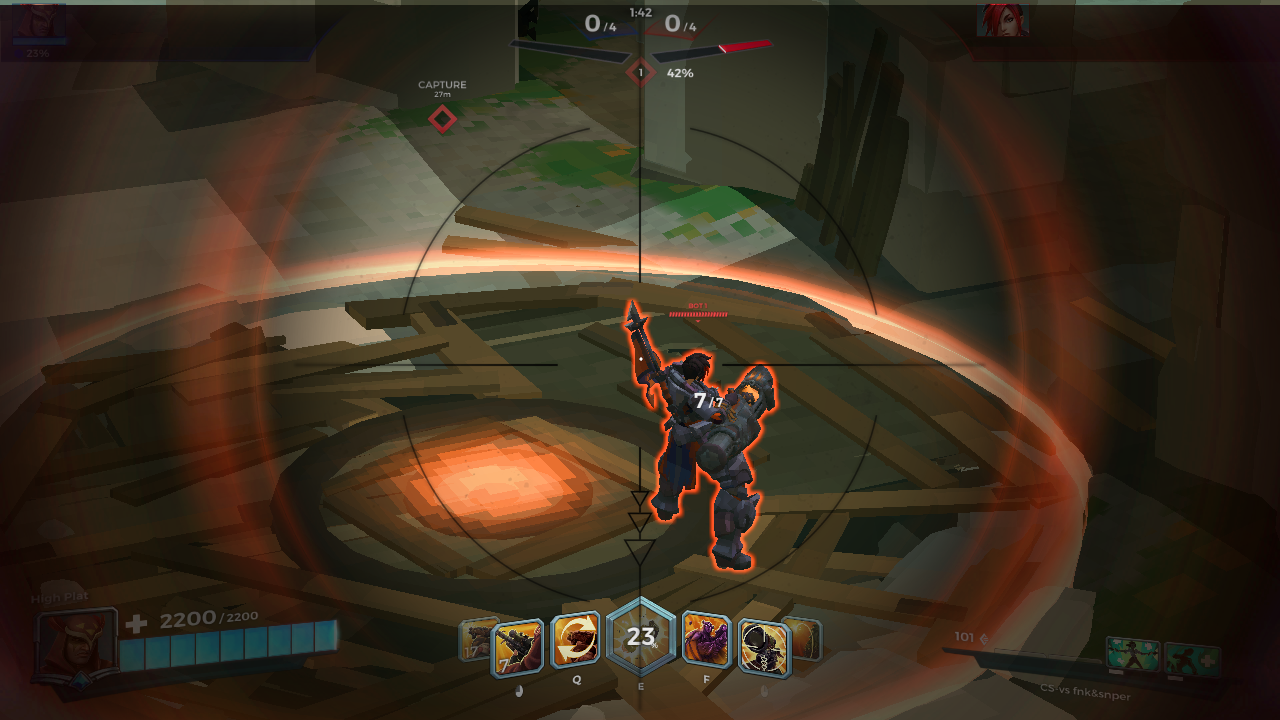model: (618, 294, 773, 583)
